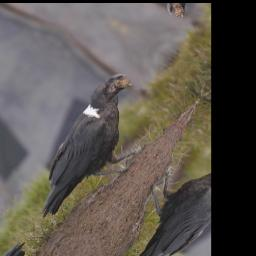Crow: (9, 64, 179, 241)
